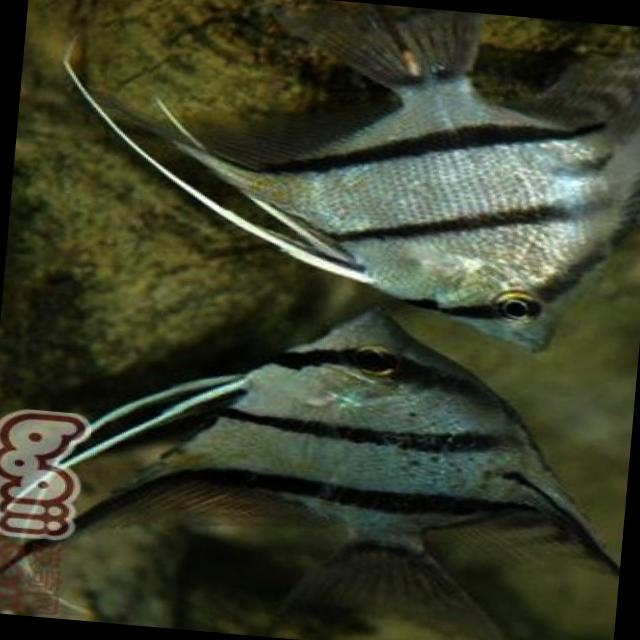AngelFish: (48, 280, 640, 640), (121, 0, 640, 362)
